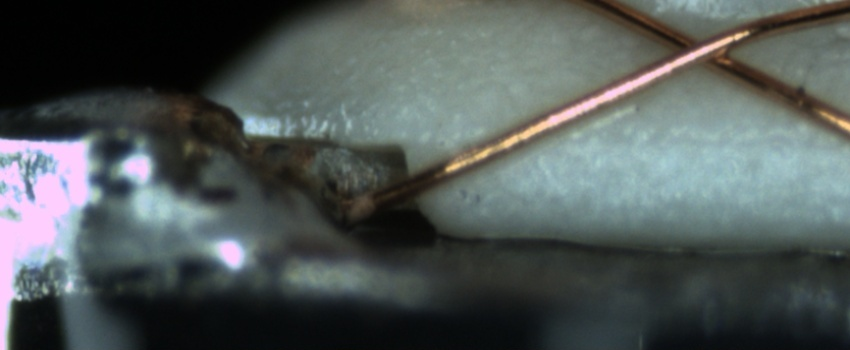CL: (645, 19, 749, 77)
DL: (565, 106, 850, 170)
